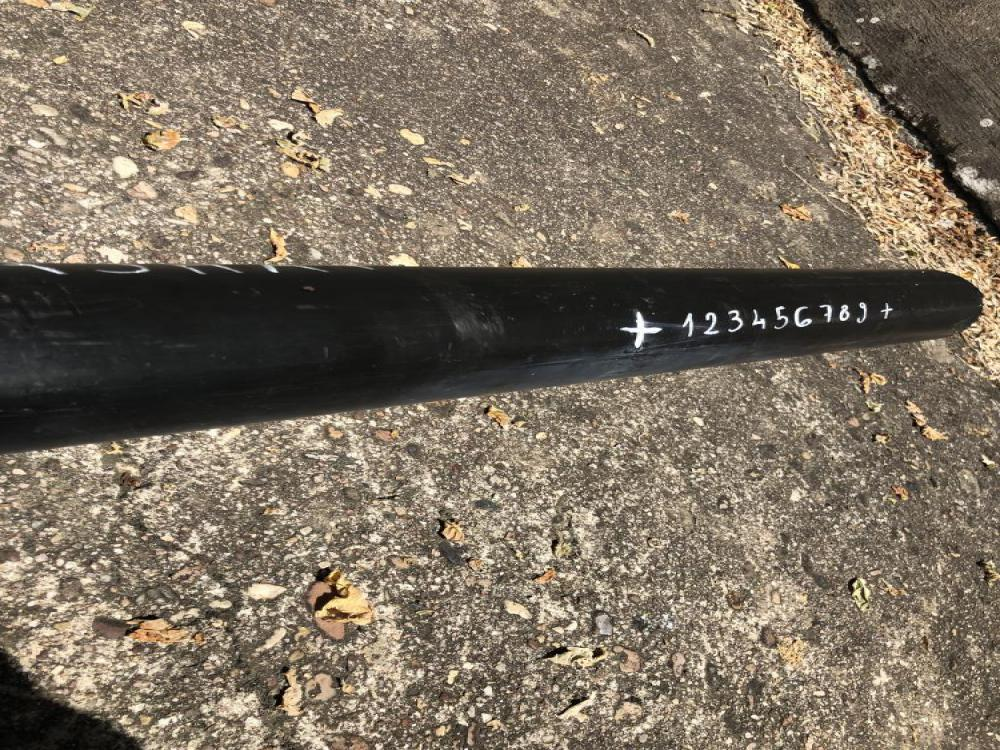+: (620, 312, 662, 348), (881, 303, 893, 319)
1: (683, 313, 695, 338)
2: (704, 312, 720, 336)
3: (728, 309, 744, 333)
4: (751, 309, 768, 329)
5: (774, 306, 788, 330)
6: (794, 306, 813, 328)
7: (819, 305, 833, 323)
8: (840, 305, 850, 321)
9: (857, 302, 867, 323)
